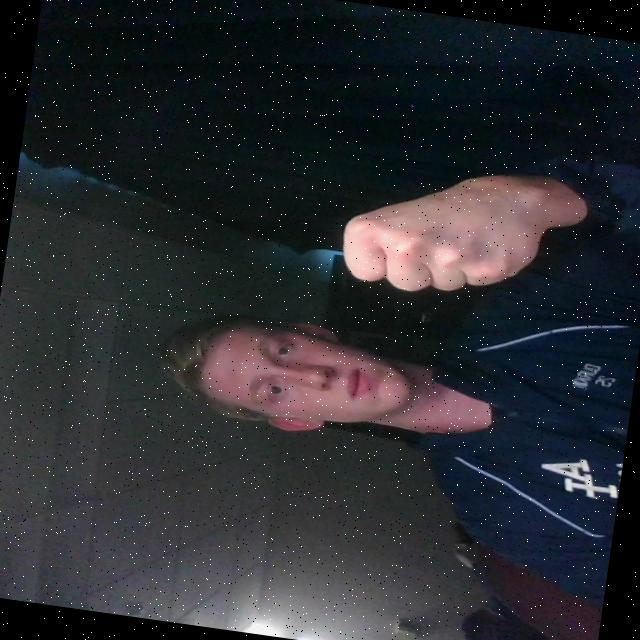rock: (319, 147, 568, 309)
